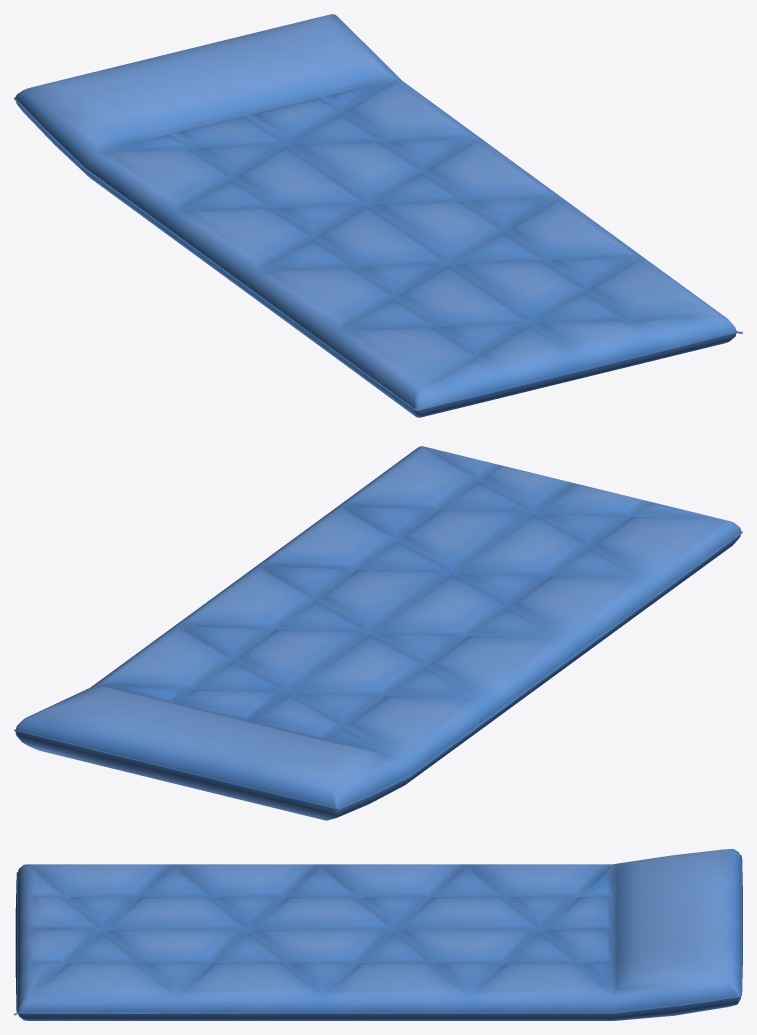
Rendered from mattress.gltf.
The picture shows the model from 3 angles, top to bottom: view 1: azimuth 30°, elevation 25°; view 2: azimuth 150°, elevation 25°; view 3: azimuth 270°, elevation 25°; orthographic projection. The views are drawn at different scales.
Visible parts, largest first — view 1: Inflatable_Mattress_Inflatable_Mattress_0; view 2: Inflatable_Mattress_Inflatable_Mattress_0; view 3: Inflatable_Mattress_Inflatable_Mattress_0.
Boxes of the visible parts, x1,y1,x2,y2 form: Inflatable_Mattress_Inflatable_Mattress_0: (14, 14, 742, 417); Inflatable_Mattress_Inflatable_Mattress_0: (14, 446, 742, 820); Inflatable_Mattress_Inflatable_Mattress_0: (14, 849, 742, 1020).
Bounding box in the file's own units: 1.36 × 0.2292 × 2.92.
1 material, 1 textured.
